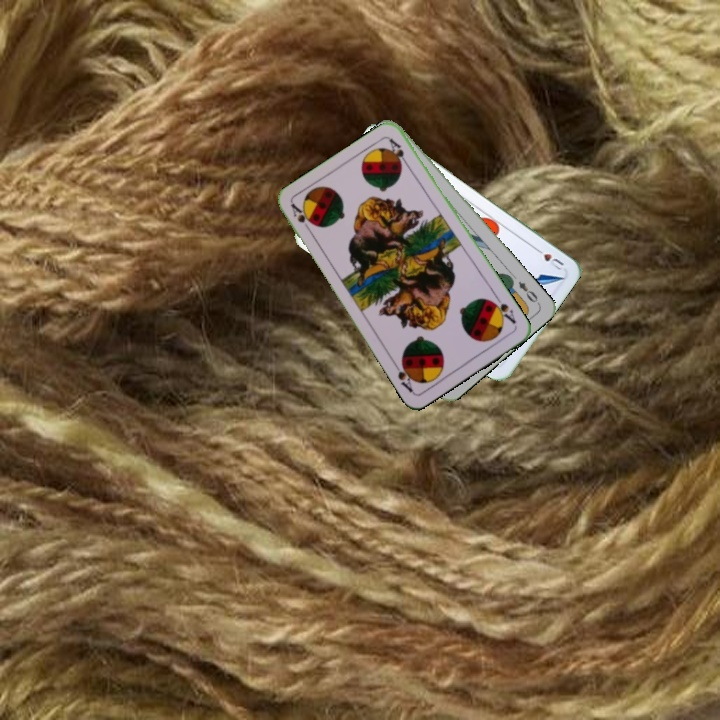EO: (514, 277, 542, 307)
HU: (531, 243, 566, 274)
SA: (486, 292, 519, 326), (286, 199, 316, 236)
